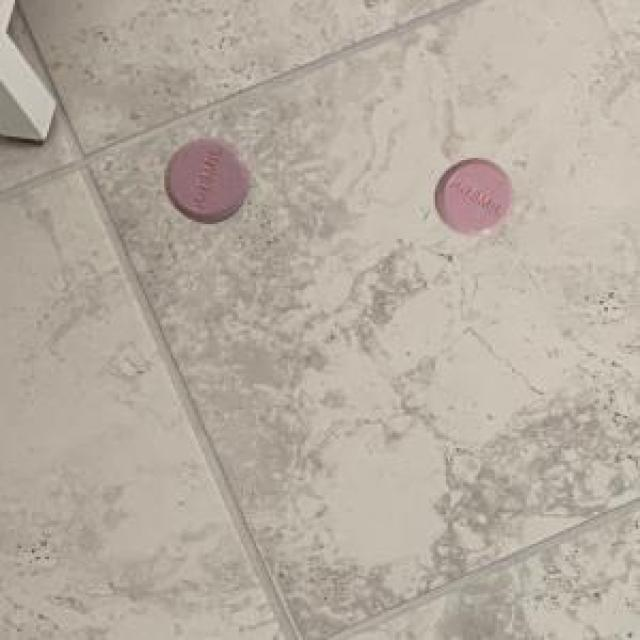Kremil_S: (158, 129, 255, 230), (426, 151, 519, 244)
